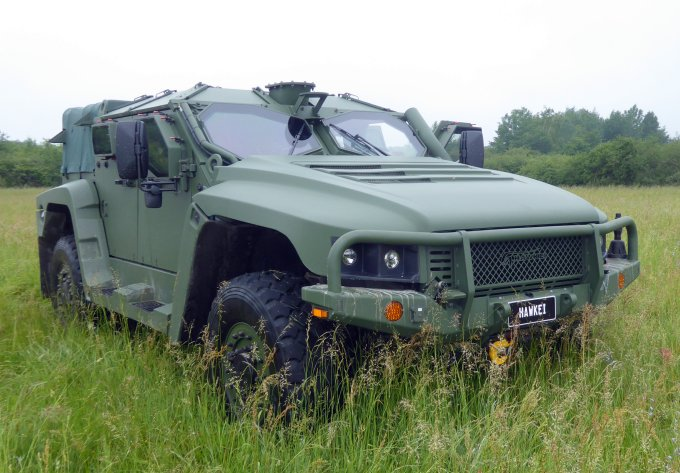license_plate: (507, 300, 557, 320)
